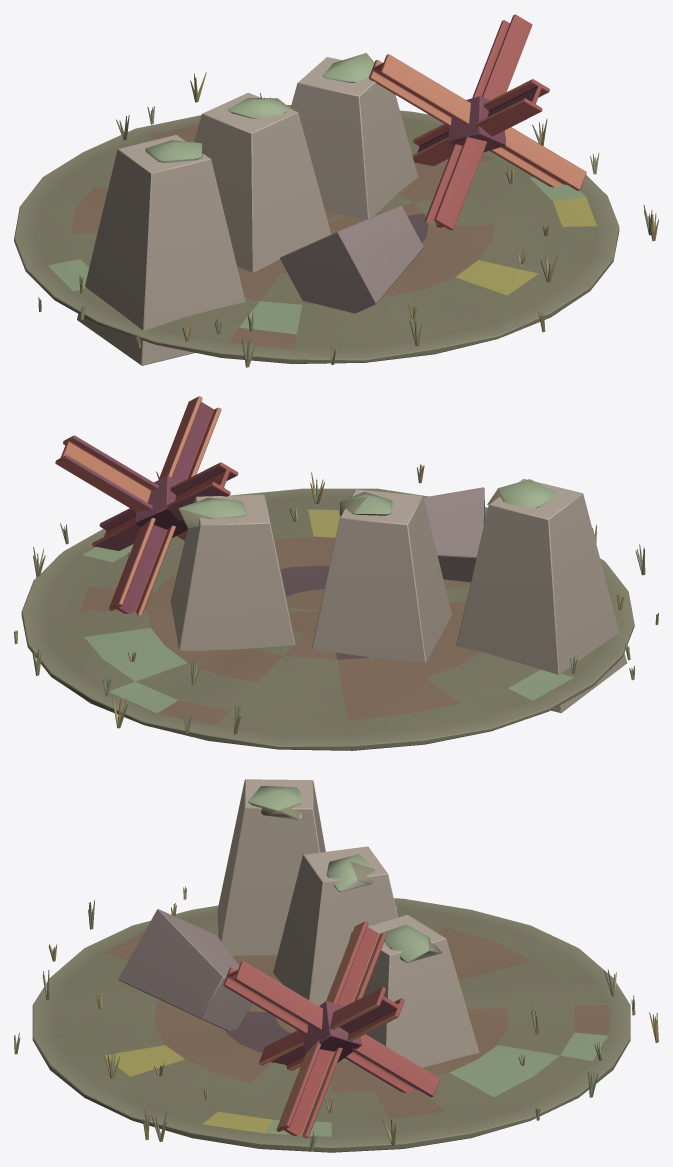
The model's file is anti_tank_obstacles_v3.glb.
3 views of the same model, one above another, from view 1: azimuth 30°, elevation 25°; view 2: azimuth 150°, elevation 25°; view 3: azimuth 270°, elevation 25° (orthographic).
Parts seen in each view (by area): view 1: Body; view 2: Body; view 3: Body.
Boxes of the visible parts, x1,y1,x2,y2 form: Body: [14, 14, 658, 367]; Body: [14, 396, 658, 750]; Body: [14, 779, 658, 1152].
Size of the model in its own units: 0.9468 by 0.2945 by 0.9423.
